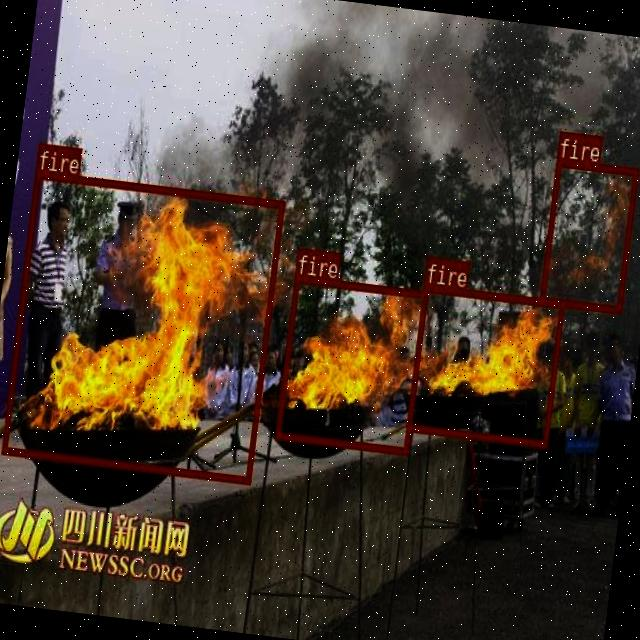fire: (0, 170, 284, 483), (274, 273, 426, 453), (406, 283, 564, 447), (538, 157, 637, 313)
